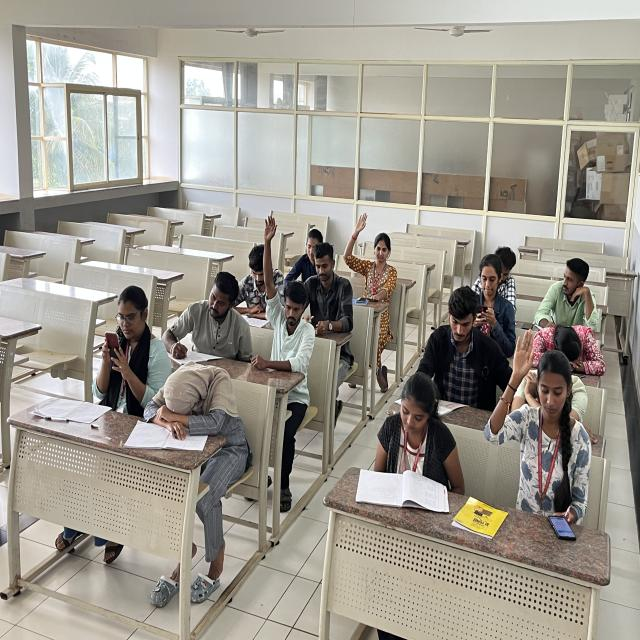Hand Rising: (484, 330, 588, 498), (261, 215, 311, 382), (340, 207, 396, 291)
Reading: (356, 374, 456, 517), (396, 286, 483, 411), (234, 240, 285, 329)
Sleeping: (144, 360, 240, 438), (528, 314, 607, 376)
Using Phone: (92, 281, 164, 394), (306, 244, 357, 336), (471, 253, 516, 346)
Writing: (163, 269, 247, 364), (535, 251, 599, 329)
